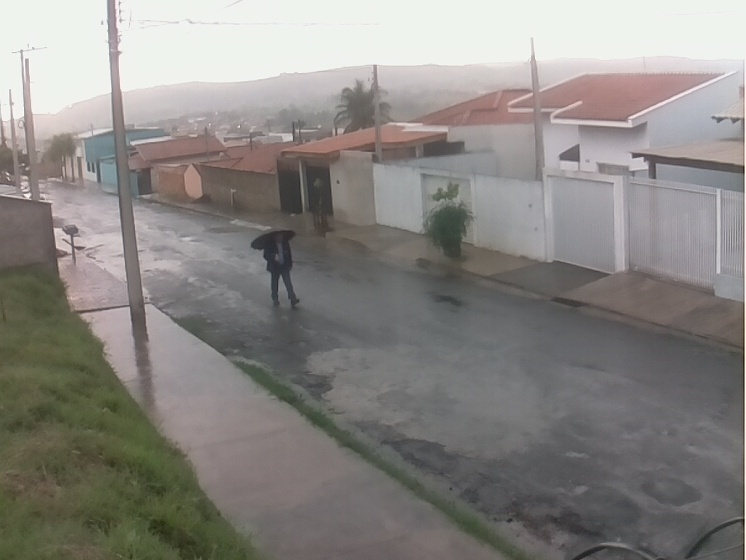person: (263, 231, 301, 307)
